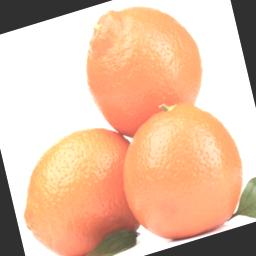Orange Ripe: (6, 12, 254, 252)
